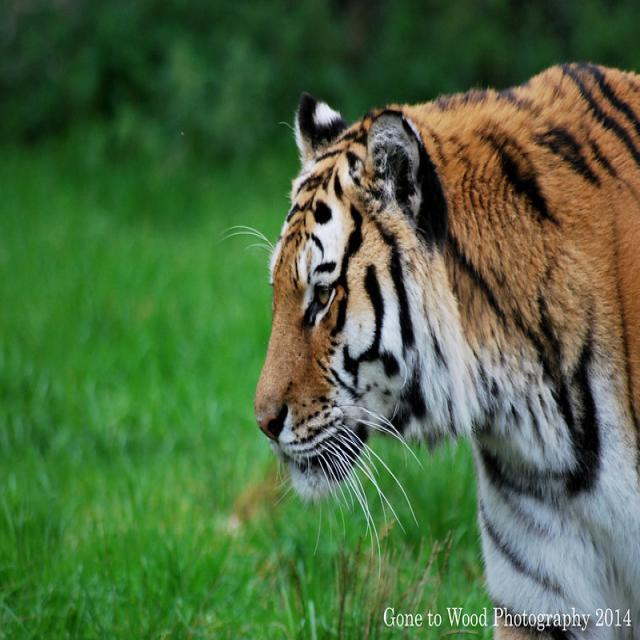Tiger: (254, 61, 636, 587)
